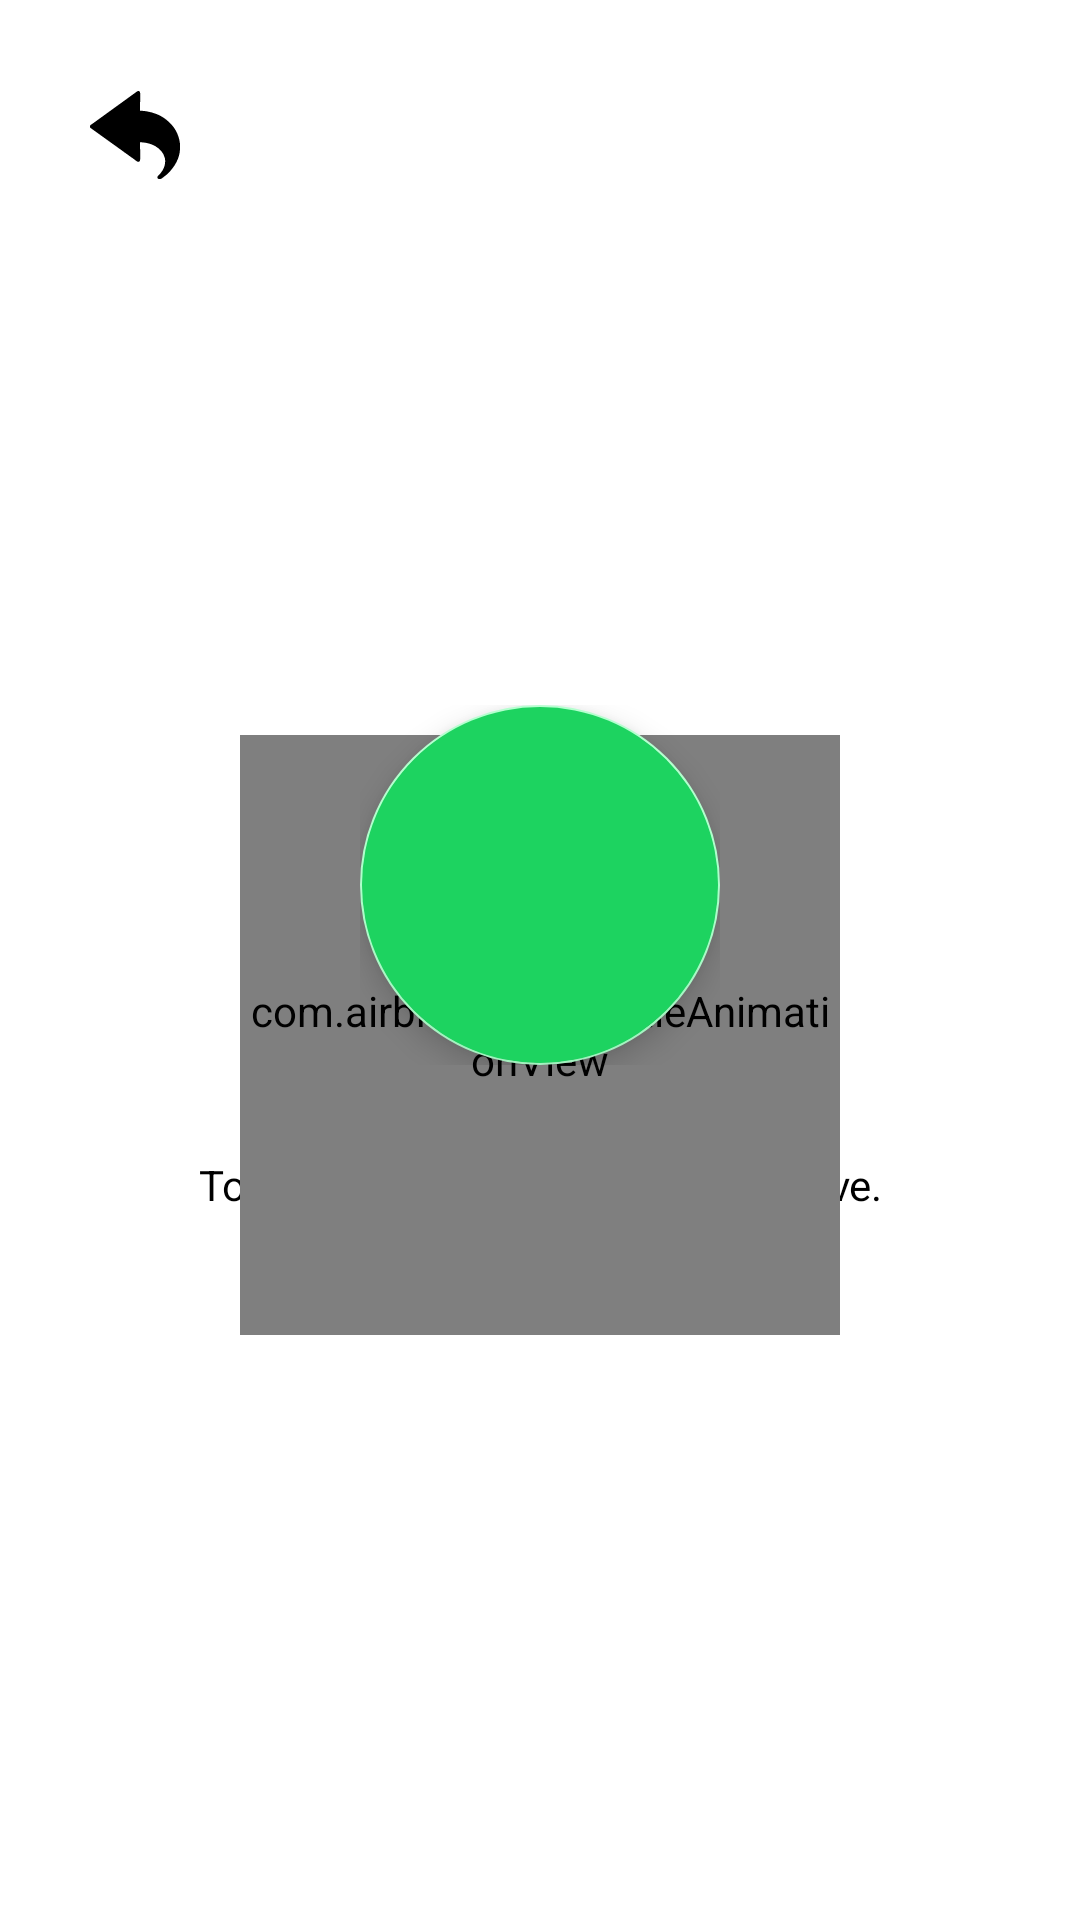

Named icons in this screenshot (1080x1920) and their bounding boxes, rect(x1, y1, x2, y2):
Return: rect(90, 91, 180, 179)
